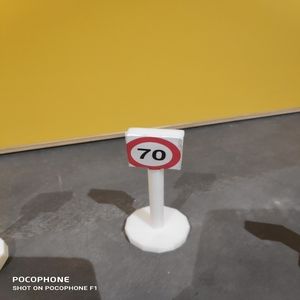70-bord: (125, 138, 182, 171)
